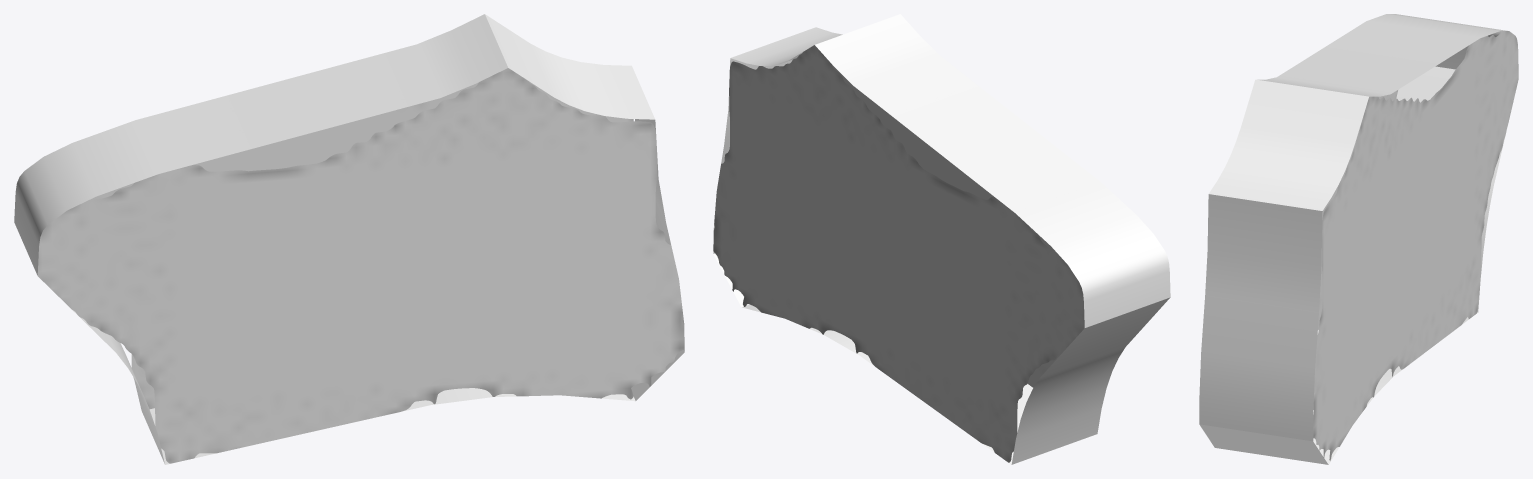
Rendered from Valle d'Aosta.OBJ.
The picture shows the model from 3 angles, left to right: view 1: azimuth 30°, elevation 25°; view 2: azimuth 150°, elevation 25°; view 3: azimuth 270°, elevation 25°; orthographic projection. The views are drawn at different scales.
Size of the model in its own units: 66.54 by 40.99 by 34.35.
Materials: 3 (3 with a texture image).
